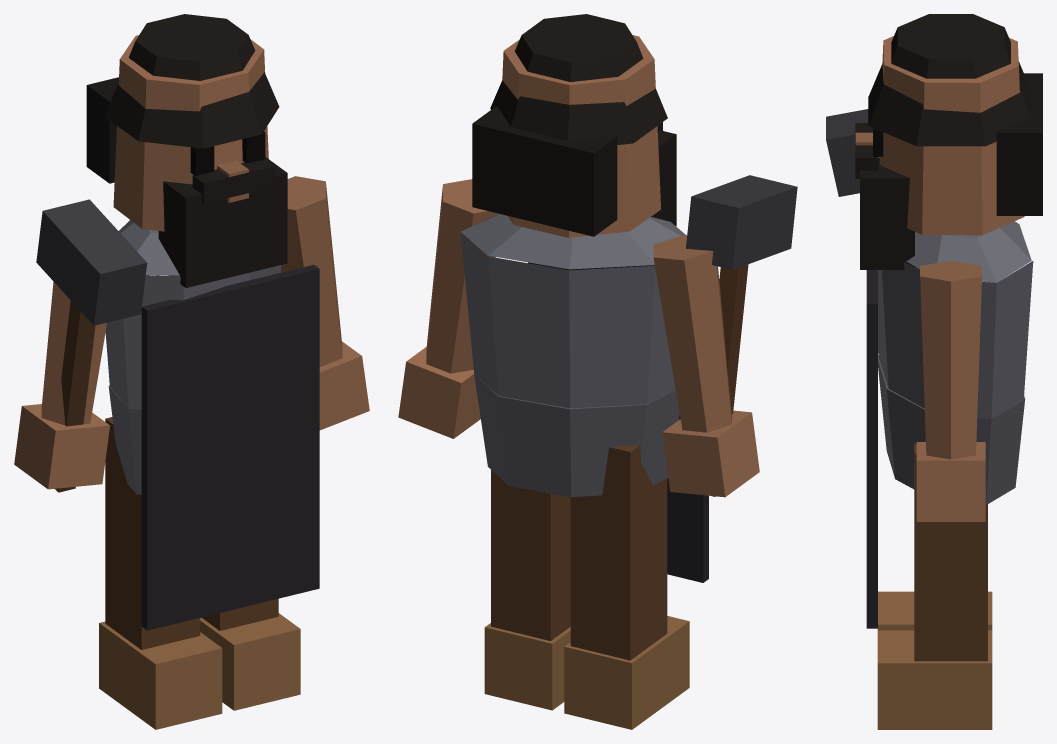
The model's file is blacksmith.glb.
The picture shows the model from 3 angles, left to right: view 1: azimuth 30°, elevation 25°; view 2: azimuth 150°, elevation 25°; view 3: azimuth 270°, elevation 25°; orthographic projection.
Visible parts, largest first — view 1: blacksmith_torso, blacksmith_head, blacksmith_leg_r, blacksmith_hammer, blacksmith_arm_r, blacksmith_arm_l, blacksmith_leg_l; view 2: blacksmith_torso, blacksmith_head, blacksmith_leg_r, blacksmith_leg_l, blacksmith_arm_r, blacksmith_arm_l, blacksmith_hammer; view 3: blacksmith_head, blacksmith_torso, blacksmith_leg_l, blacksmith_arm_l, blacksmith_hammer, blacksmith_leg_r.
Part boxes in pixels (left/top/right/bottom): blacksmith_torso: left=105, top=220, right=319, bottom=630; blacksmith_head: left=86, top=14, right=287, bottom=287; blacksmith_leg_r: left=99, top=417, right=222, bottom=729; blacksmith_hammer: left=36, top=199, right=147, bottom=492; blacksmith_arm_r: left=14, top=281, right=109, bottom=489; blacksmith_arm_l: left=281, top=176, right=369, bottom=430; blacksmith_leg_l: left=200, top=598, right=300, bottom=710; blacksmith_torso: left=460, top=213, right=708, bottom=582; blacksmith_head: left=472, top=14, right=676, bottom=237; blacksmith_leg_r: left=564, top=445, right=689, bottom=729; blacksmith_leg_l: left=484, top=470, right=570, bottom=710; blacksmith_arm_r: left=653, top=234, right=759, bottom=497; blacksmith_arm_l: left=398, top=179, right=498, bottom=438; blacksmith_hammer: left=686, top=175, right=797, bottom=496; blacksmith_head: left=855, top=14, right=1042, bottom=269; blacksmith_torso: left=866, top=221, right=1033, bottom=628; blacksmith_leg_l: left=877, top=443, right=992, bottom=729; blacksmith_arm_l: left=916, top=260, right=985, bottom=521; blacksmith_hammer: left=826, top=109, right=919, bottom=270; blacksmith_leg_r: left=877, top=591, right=992, bottom=630.
Size of the model in its own units: 0.8866 by 1.71 by 0.5102.
